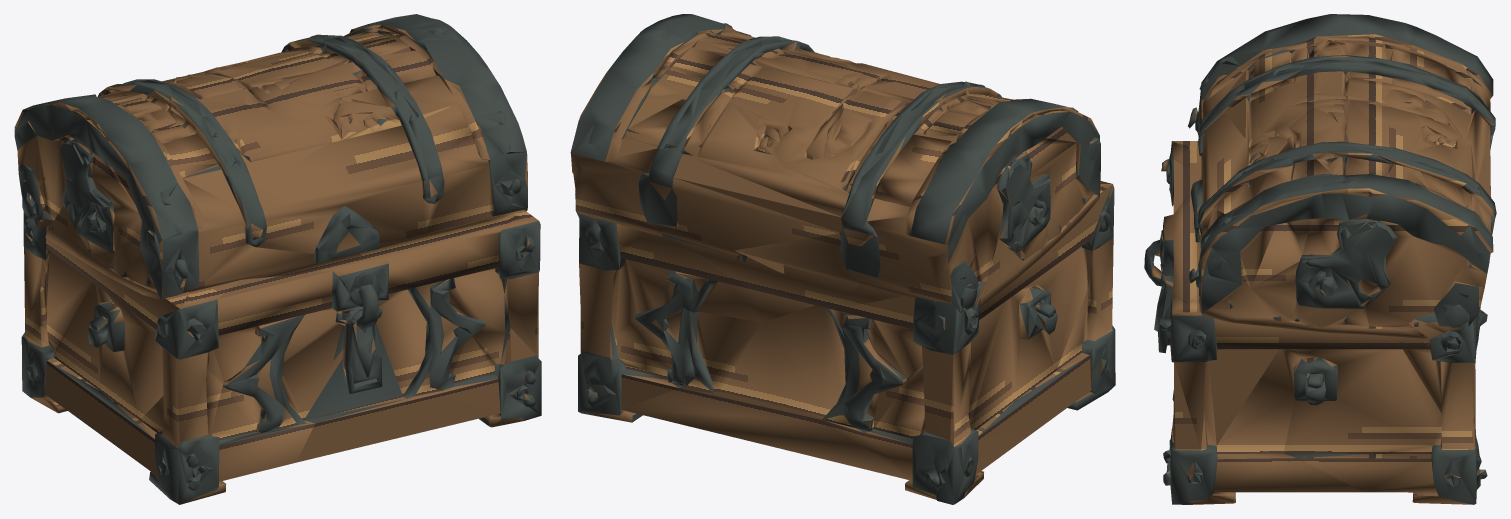
File: chest-carved-lid.glb
The picture shows the model from 3 angles, left to right: view 1: azimuth 30°, elevation 25°; view 2: azimuth 150°, elevation 25°; view 3: azimuth 270°, elevation 25°; orthographic projection. The views are drawn at different scales.
Parts seen in each view (by area): view 1: chest-carved-lid runtime mesh; view 2: chest-carved-lid runtime mesh; view 3: chest-carved-lid runtime mesh.
Part boxes in pixels (x1,y1,x2,y2): chest-carved-lid runtime mesh: (14, 14, 541, 504); chest-carved-lid runtime mesh: (570, 14, 1115, 504); chest-carved-lid runtime mesh: (1144, 14, 1496, 504).
Size of the model in its own units: 1 by 0.8 by 0.8.
Materials: 2 (1 with a texture image).
